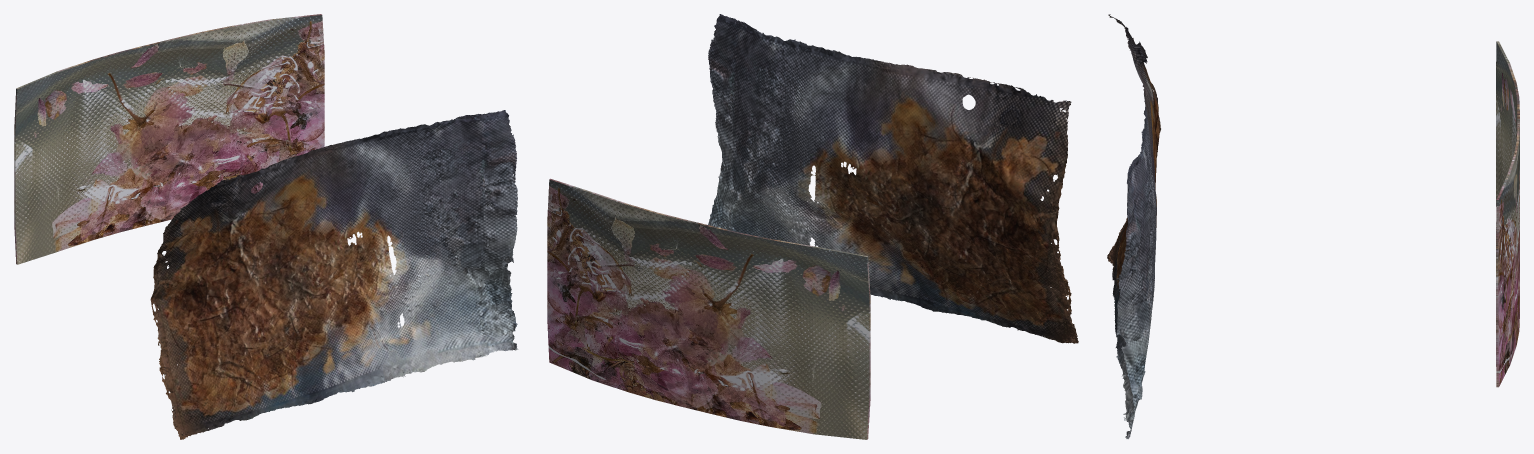
Rendered from wiese_i.glb.
3 renders of one model, left to right at view 1: azimuth 30°, elevation 25°; view 2: azimuth 150°, elevation 25°; view 3: azimuth 270°, elevation 25°, orthographic. The views are drawn at different scales.
Visible parts, largest first — view 1: wiese_high, videotarget; view 2: wiese_high, videotarget; view 3: wiese_high, videotarget.
Part boxes in pixels (bbox=[...]): wiese_high: bbox=[150, 110, 518, 439]; videotarget: bbox=[14, 14, 324, 264]; wiese_high: bbox=[708, 14, 1078, 343]; videotarget: bbox=[547, 178, 870, 439]; wiese_high: bbox=[1107, 14, 1160, 438]; videotarget: bbox=[1496, 41, 1519, 387].
Size of the model in its own units: 3.03 by 2 by 2.86.
2 materials, 2 textured.
